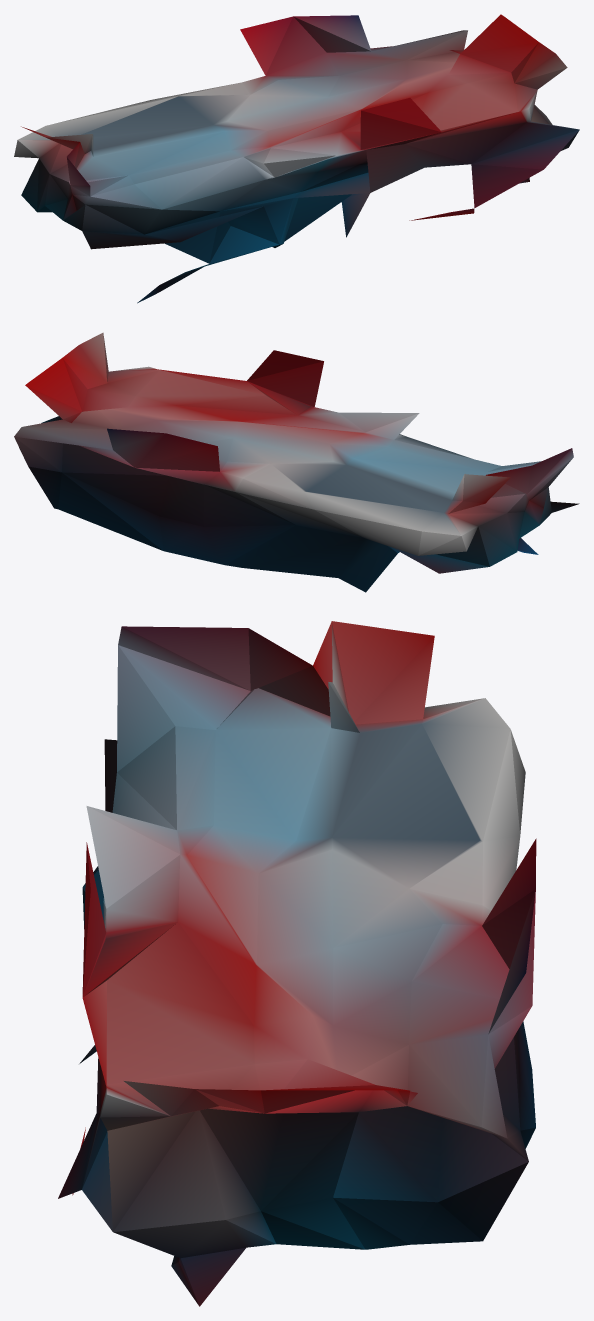
The picture shows the model from 3 angles, top to bottom: view 1: azimuth 30°, elevation 25°; view 2: azimuth 150°, elevation 25°; view 3: azimuth 270°, elevation 25°; orthographic projection. The views are drawn at different scales.
Size of the model in its own units: 2.09 by 0.5753 by 0.9.
